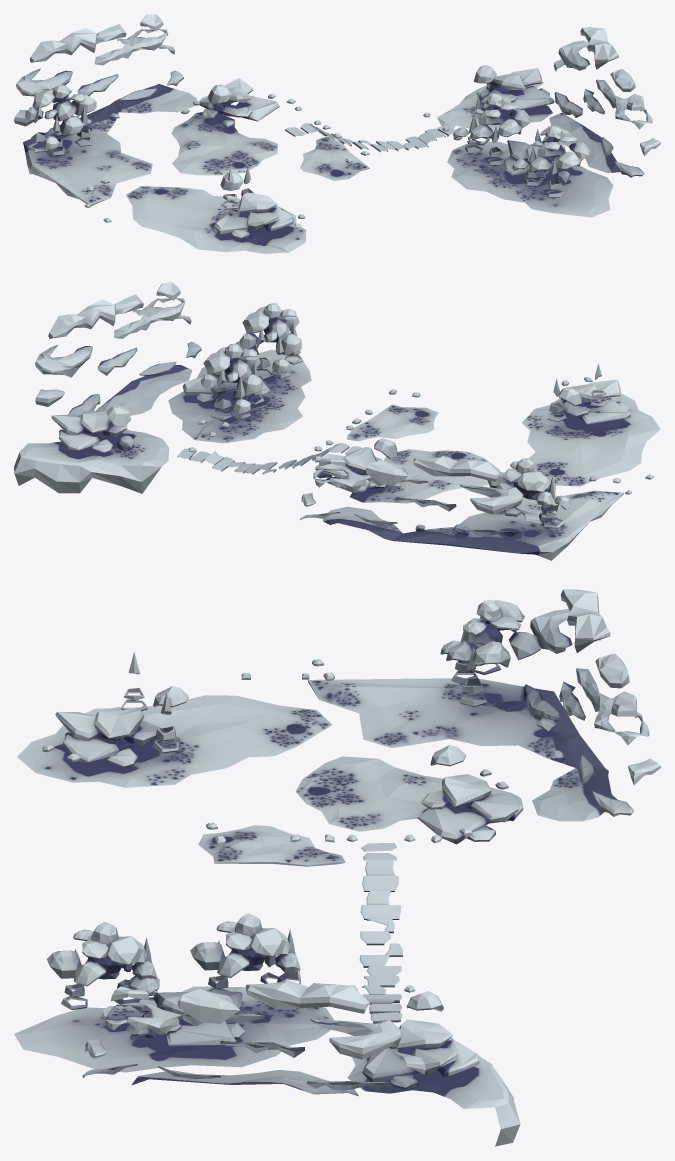
The model's file is Snow_01.FBX.
3 renders of one model, top to bottom at view 1: azimuth 30°, elevation 25°; view 2: azimuth 150°, elevation 25°; view 3: azimuth 270°, elevation 25°, orthographic. The views are drawn at different scales.
Visible parts, largest first — view 1: Snow_01; view 2: Snow_01; view 3: Snow_01.
Boxes of the visible parts, left/top/right/bottom form: Snow_01: left=14, top=14, right=660, bottom=253; Snow_01: left=14, top=282, right=660, bottom=560; Snow_01: left=14, top=589, right=660, bottom=1146.
Bounding box in the file's own units: 39.09 × 10.41 × 27.27.
